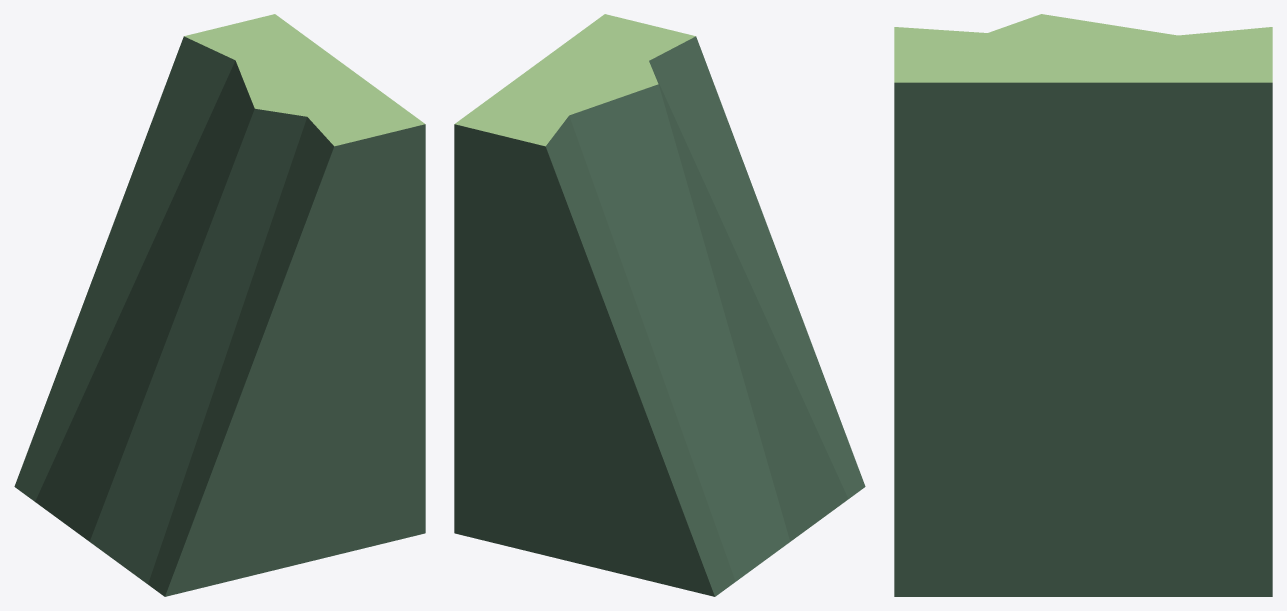
The model's file is GroundEdge03.fbx.
3 renders of one model, left to right at view 1: azimuth 30°, elevation 25°; view 2: azimuth 150°, elevation 25°; view 3: azimuth 270°, elevation 25°, orthographic. The views are drawn at different scales.
Visible parts, largest first — view 1: Cube.011; view 2: Cube.011; view 3: Cube.011.
Boxes of the visible parts, box(x1,y1,x2,y2) form: Cube.011: box(14, 14, 425, 596); Cube.011: box(454, 14, 865, 596); Cube.011: box(894, 14, 1272, 596).
Bounding box in the file's own units: 100 × 150 × 100.
